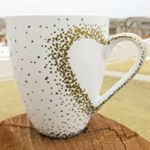cups: (2, 12, 150, 145)
